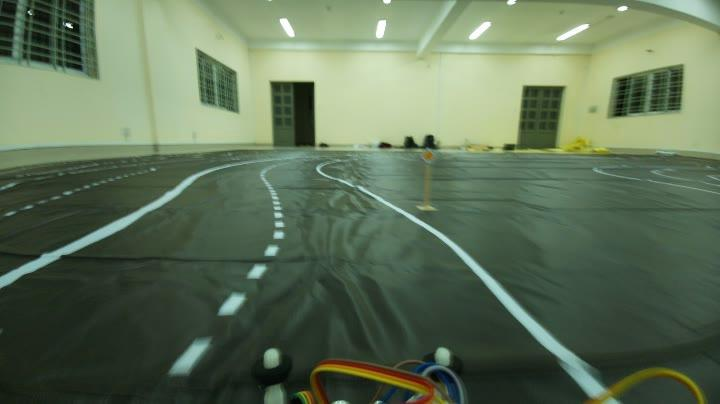priority: (416, 148, 441, 172)
